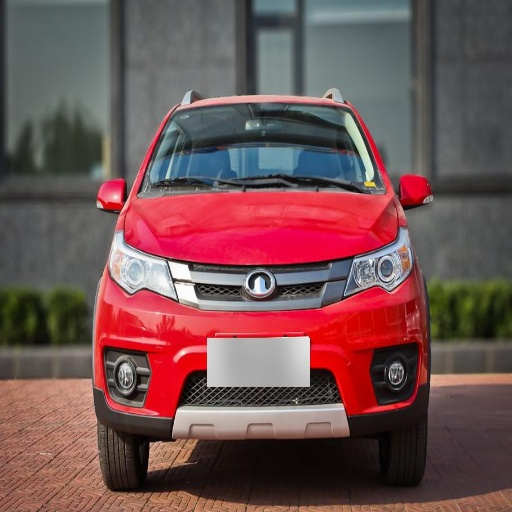front_bumper: (98, 257, 424, 437)
front_right_light: (108, 244, 178, 298)
hood: (121, 193, 399, 264)
